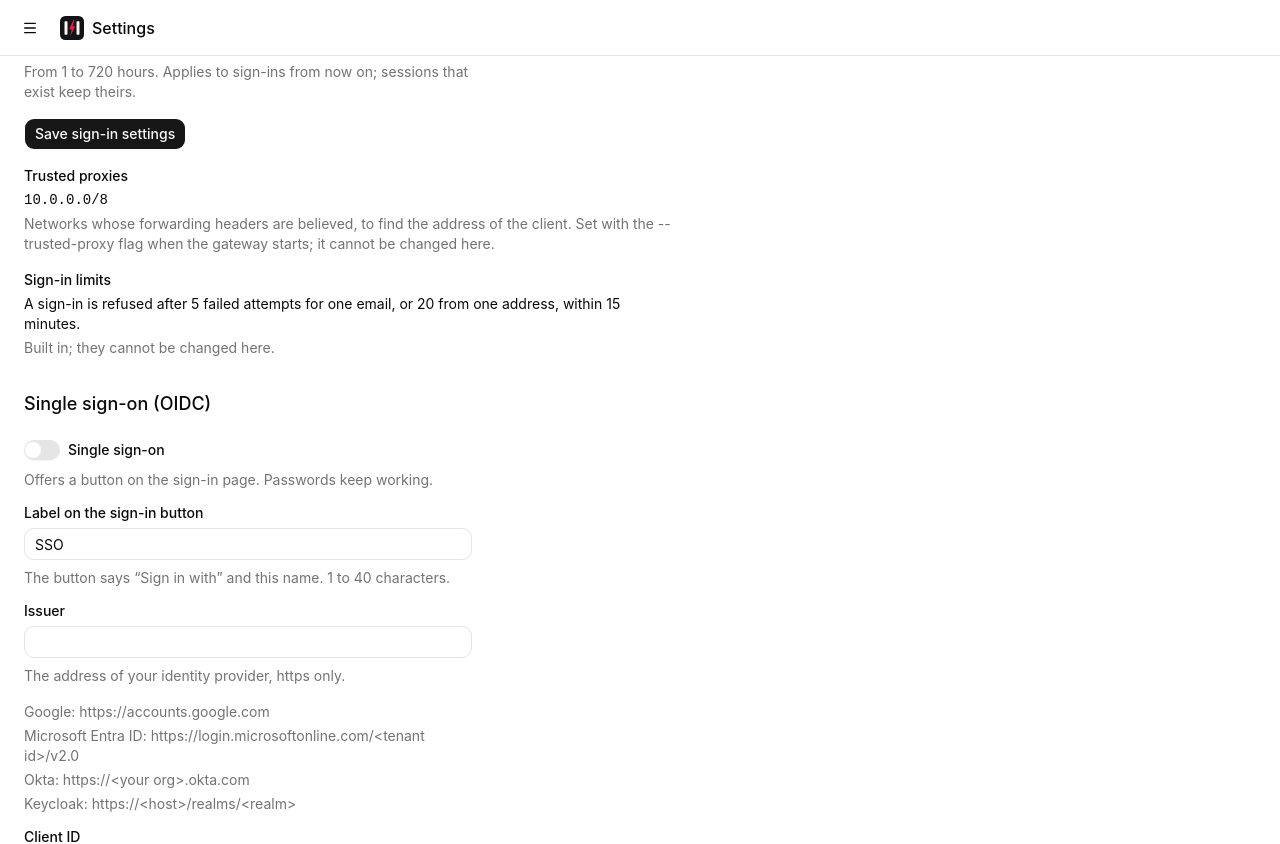
Settings: single sign-on › the enable refusal for a missing public URL is on the switch
(page scrolled)
Click the switch named "Single sign-on": (42, 450) [24,440,60,460]
(page scrolled)
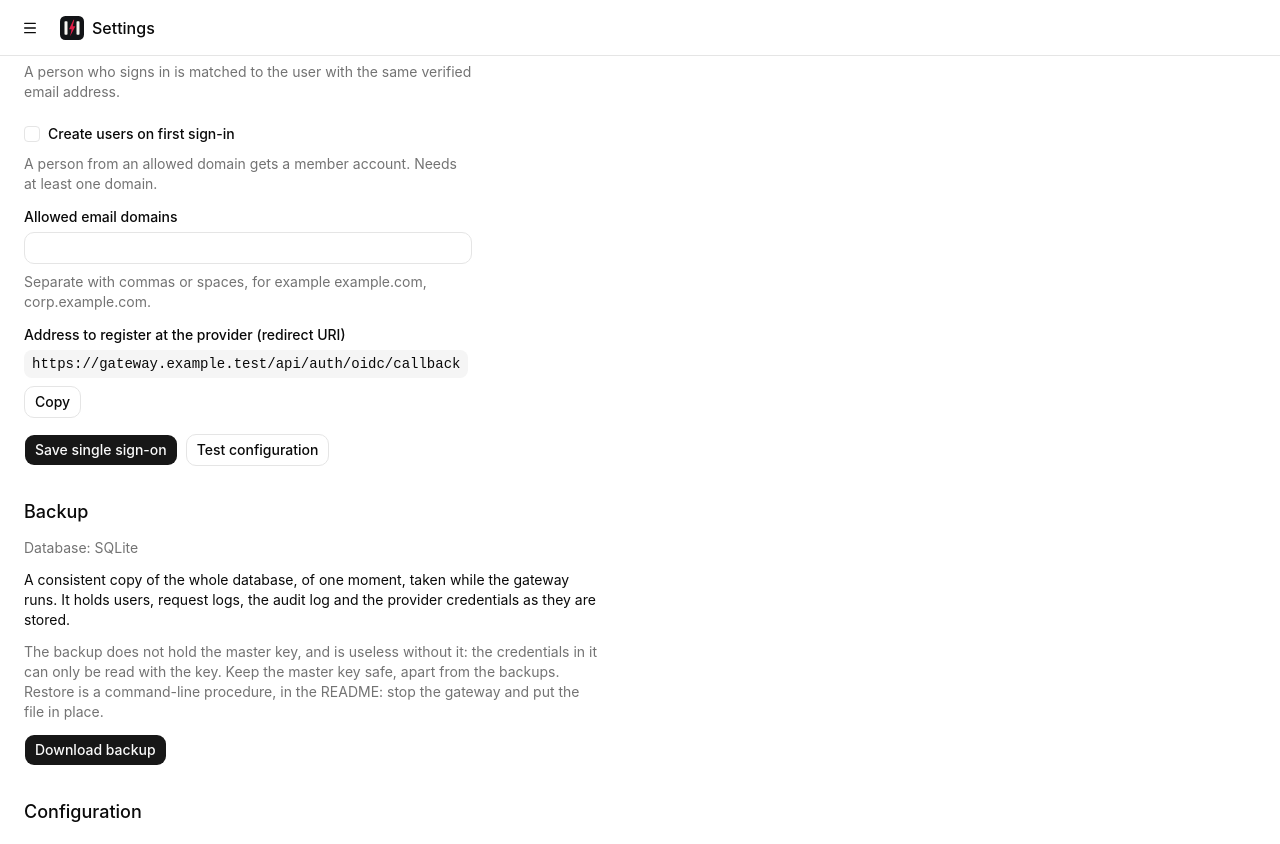
Click the button "Save single sign-on": (101, 450) [24,434,178,466]
(page scrolled)
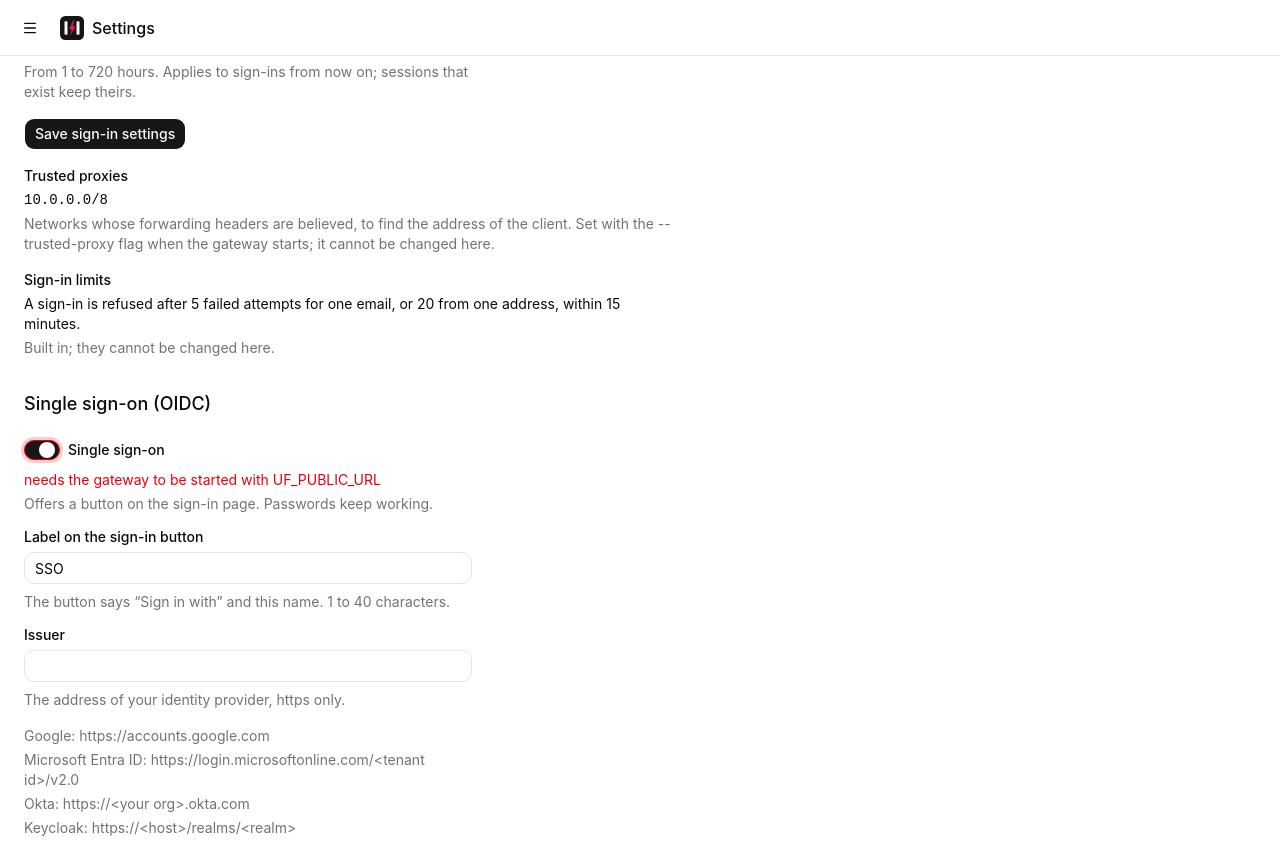
Now the text "needs the gateway to be started with UF_PUBLIC_URL" is shown, box [24,471,381,488]
